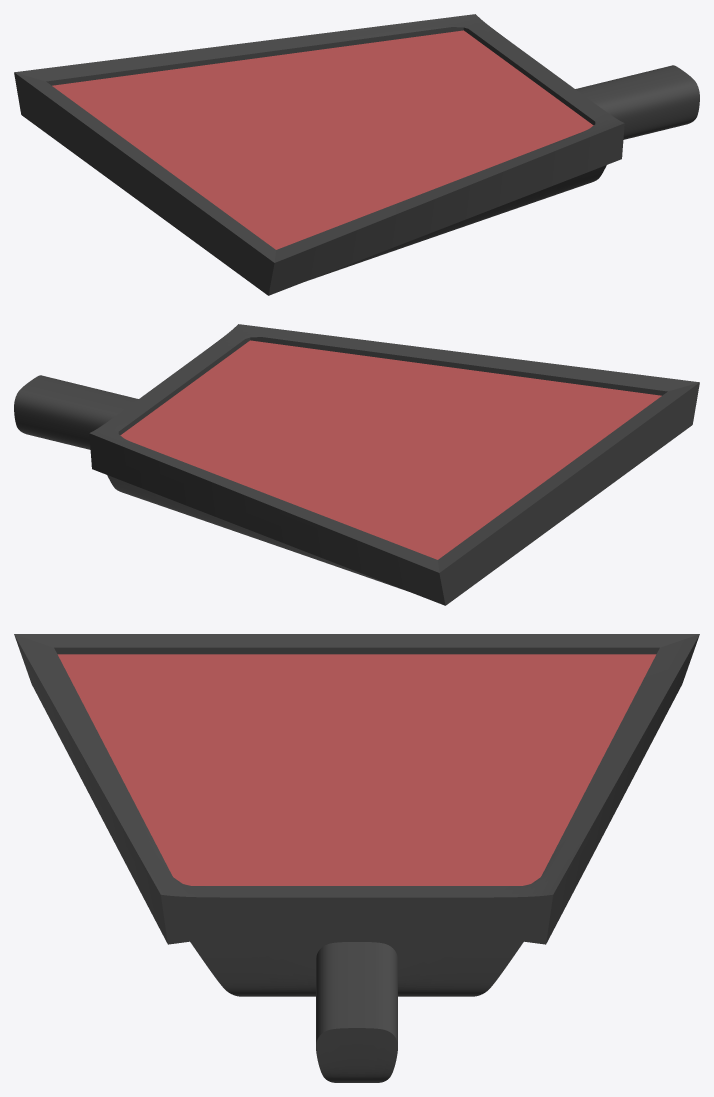
File: Platform_Type02.fbx
The picture shows the model from 3 angles, top to bottom: view 1: azimuth 30°, elevation 25°; view 2: azimuth 150°, elevation 25°; view 3: azimuth 270°, elevation 25°; orthographic projection. The views are drawn at different scales.
Visible parts, largest first — view 1: Platform_Type02; view 2: Platform_Type02; view 3: Platform_Type02.
Part boxes in pixels (x1,y1,x2,y2): Platform_Type02: [14, 14, 699, 295]; Platform_Type02: [14, 324, 699, 605]; Platform_Type02: [14, 634, 699, 1082].
Size of the model in its own units: 663 by 98.06 by 554.
